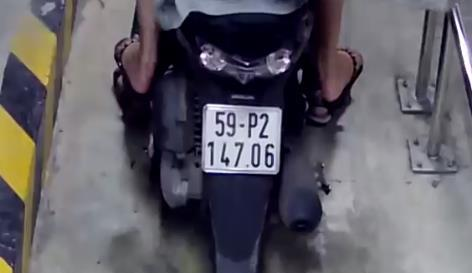lisence: (200, 103, 283, 175)
